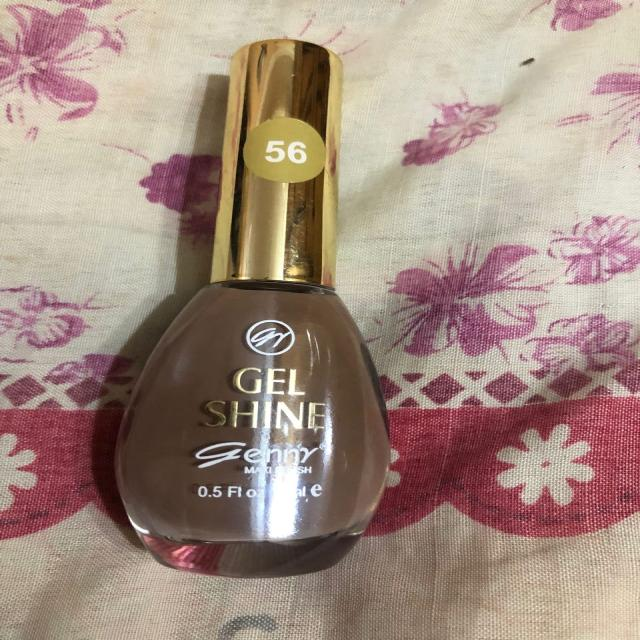nail polish: (84, 19, 416, 588)
